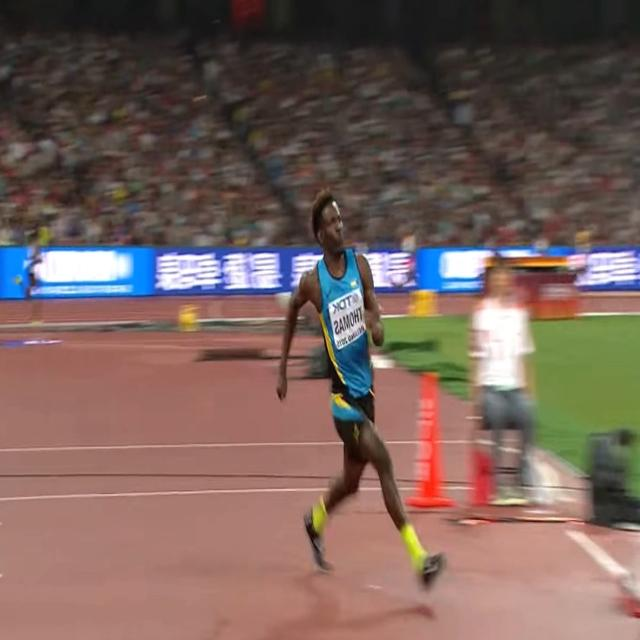run: (274, 186, 449, 596)
